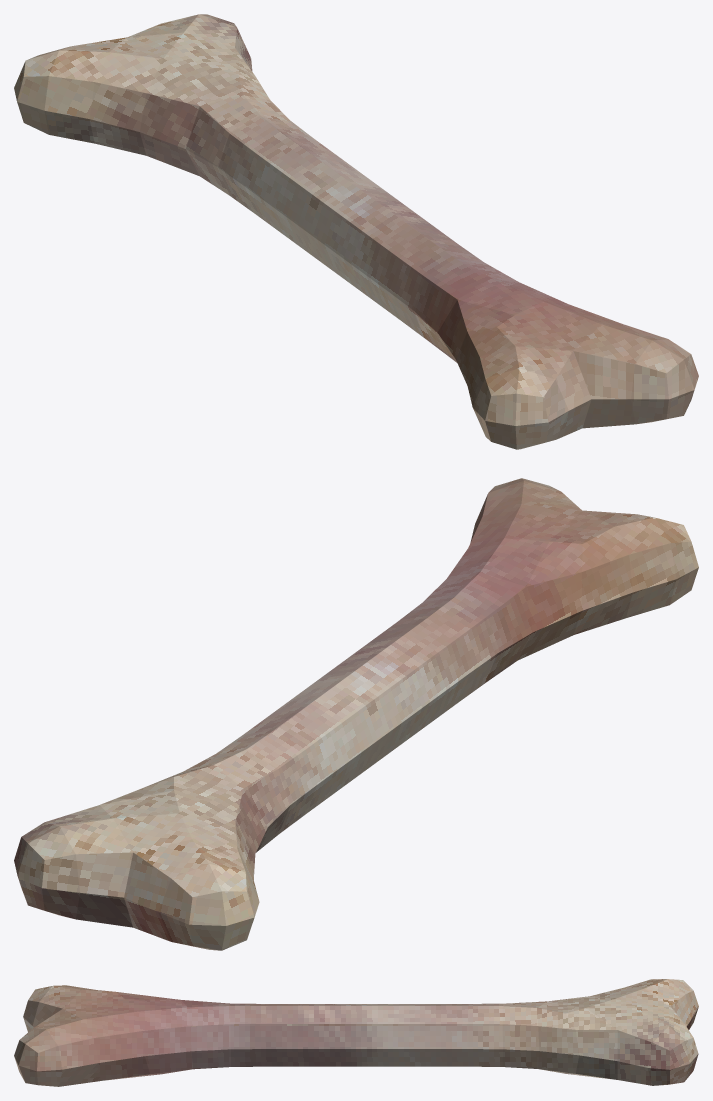
The model's file is bone.glb.
3 renders of one model, top to bottom at view 1: azimuth 30°, elevation 25°; view 2: azimuth 150°, elevation 25°; view 3: azimuth 270°, elevation 25°, orthographic. The views are drawn at different scales.
Visible parts, largest first — view 1: Cylinder.008; view 2: Cylinder.008; view 3: Cylinder.008.
Part boxes in pixels (left/top/right/bottom): Cylinder.008: left=14, top=14, right=698, bottom=449; Cylinder.008: left=14, top=478, right=698, bottom=950; Cylinder.008: left=14, top=979, right=698, bottom=1086.
Bounding box in the file's own units: 0.1383 × 0.0512 × 0.5098.
Materials: 1 (1 with a texture image).
